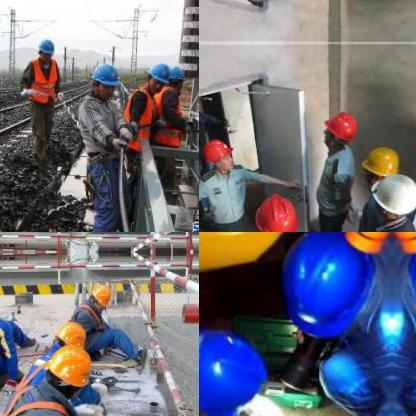Helmet: (275, 232, 380, 339), (199, 329, 270, 415), (44, 340, 93, 394), (368, 173, 415, 218), (252, 192, 298, 231), (400, 232, 415, 339), (321, 110, 357, 150), (360, 146, 400, 182), (48, 316, 86, 352), (87, 58, 119, 96), (202, 137, 234, 169), (84, 281, 116, 309), (146, 58, 168, 87), (35, 32, 56, 60), (167, 63, 185, 92)
